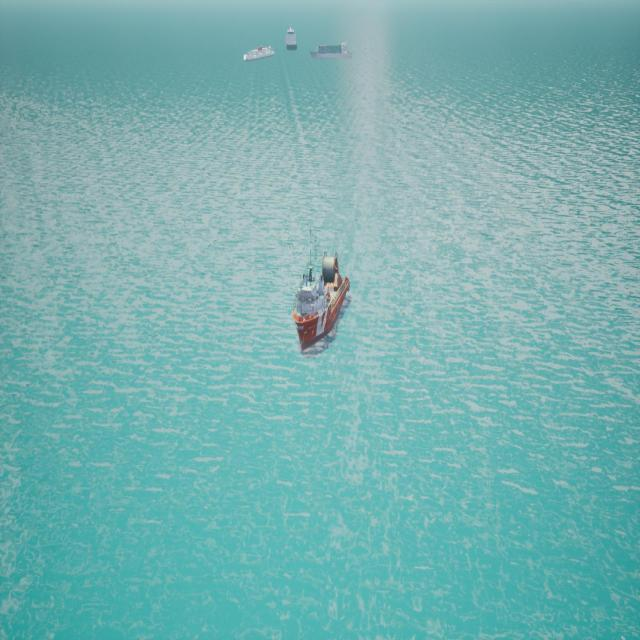tug boat: (292, 251, 350, 357)
